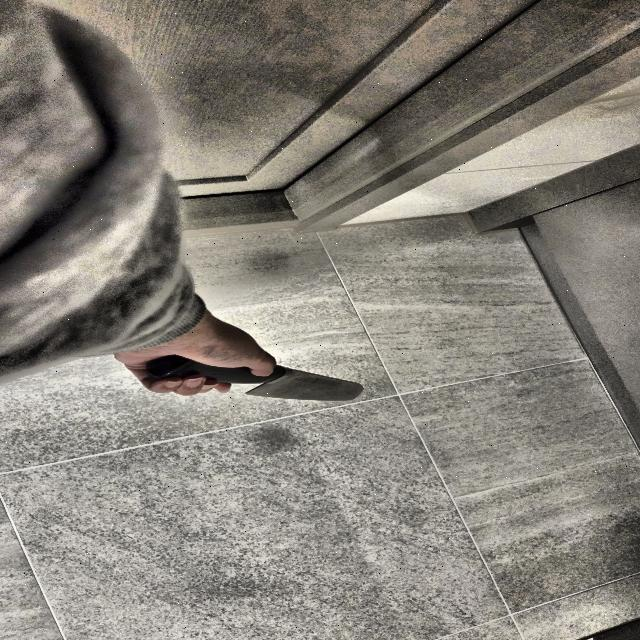knife: (143, 355, 364, 402)
